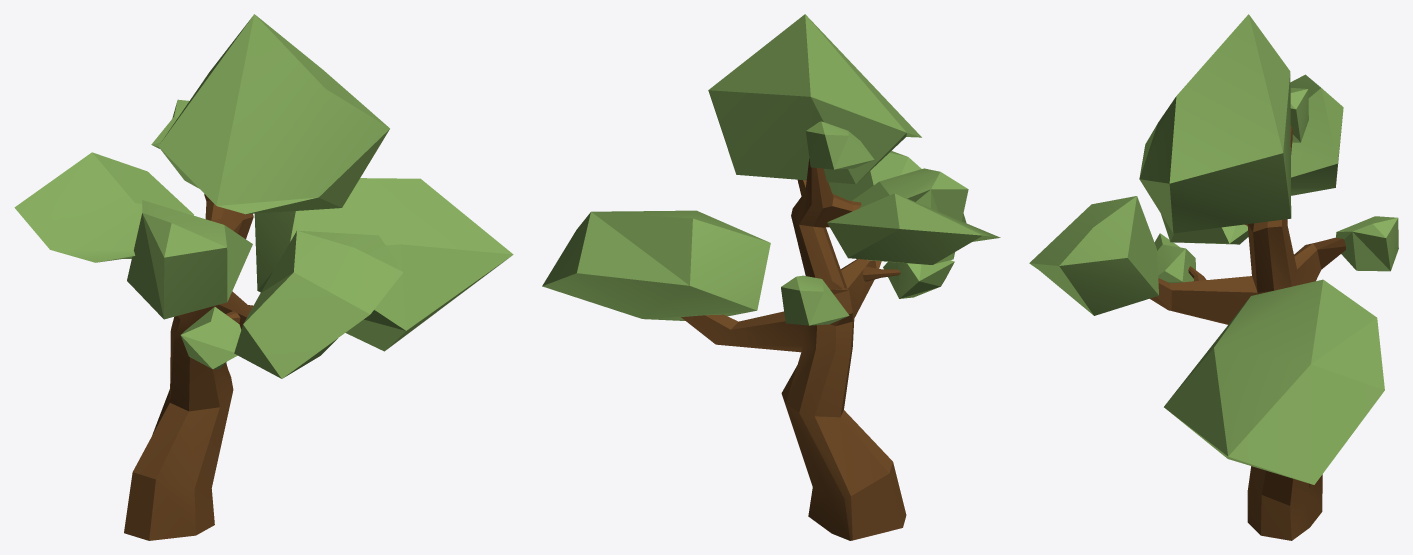
The model's file is Tree_Asian_Shaped_01.fbx.
3 views of the same model, side by side, from view 1: azimuth 30°, elevation 25°; view 2: azimuth 150°, elevation 25°; view 3: azimuth 270°, elevation 25° (orthographic). The views are drawn at different scales.
Parts seen in each view (by area): view 1: Tree_Asian_Shaped_01; view 2: Tree_Asian_Shaped_01; view 3: Tree_Asian_Shaped_01.
Boxes of the visible parts, x1,y1,x2,y2 form: Tree_Asian_Shaped_01: [14, 14, 513, 540]; Tree_Asian_Shaped_01: [542, 14, 1000, 540]; Tree_Asian_Shaped_01: [1029, 14, 1398, 540].
Bounding box in the file's own units: 168 × 177 × 109.
